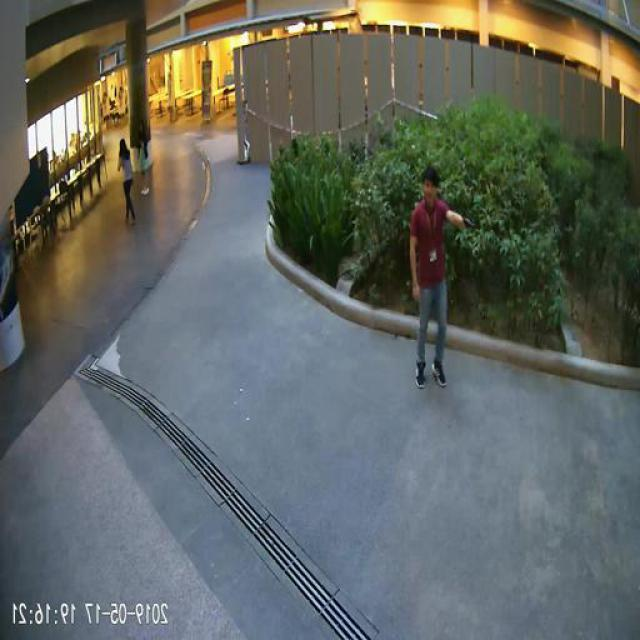Gun: (462, 212, 478, 230)
